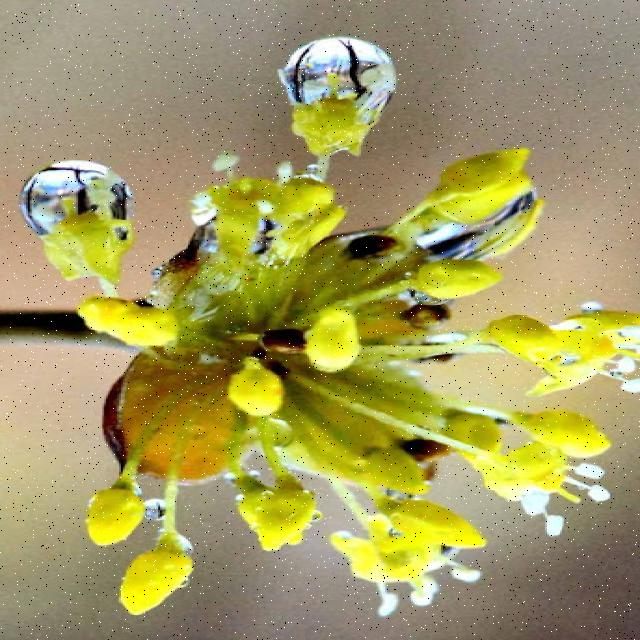raindrop: (261, 16, 434, 128), (0, 146, 160, 262)
